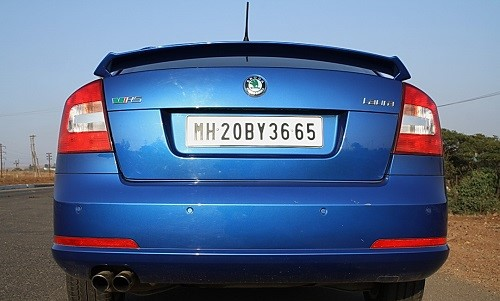MH20BY3665: (185, 115, 323, 147)
